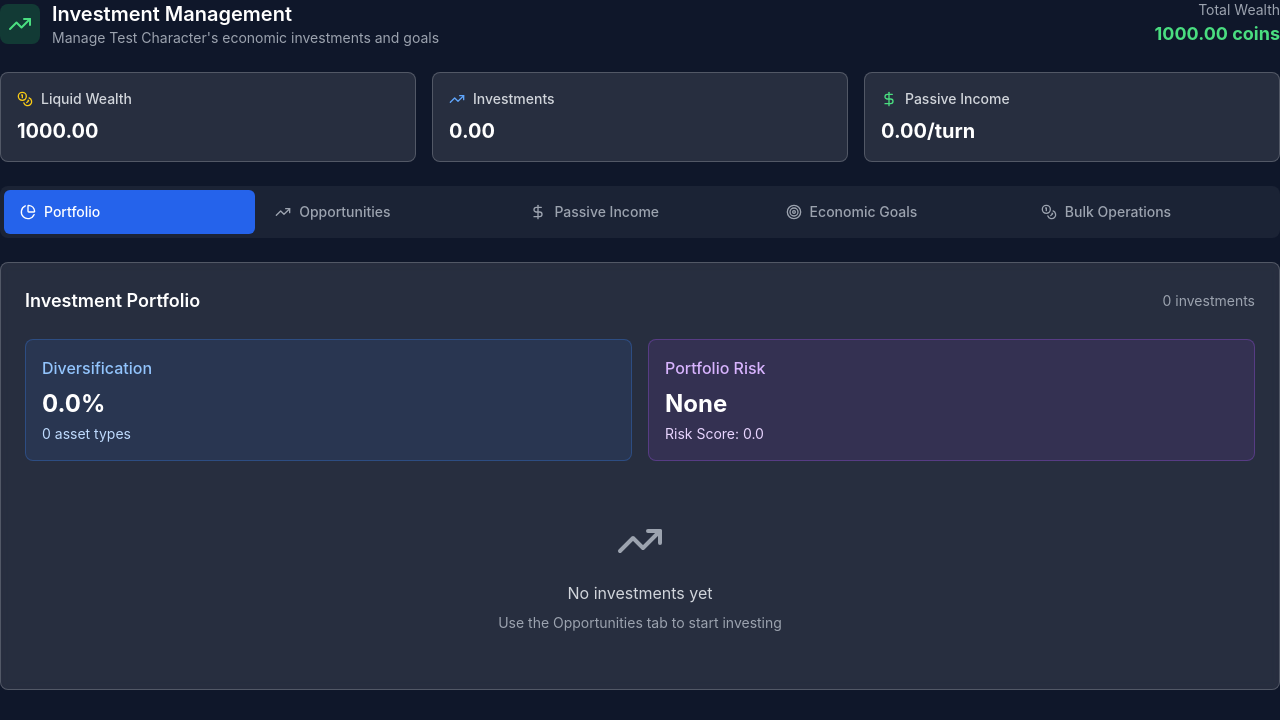
it: InvestmentEditor Integration Tests › Opportunities Tab › displays available investment opportunities
// Switch to opportunities tab
Click the button "Opportunities" at (385, 212), box [259, 190, 510, 234]
(page scrolled)
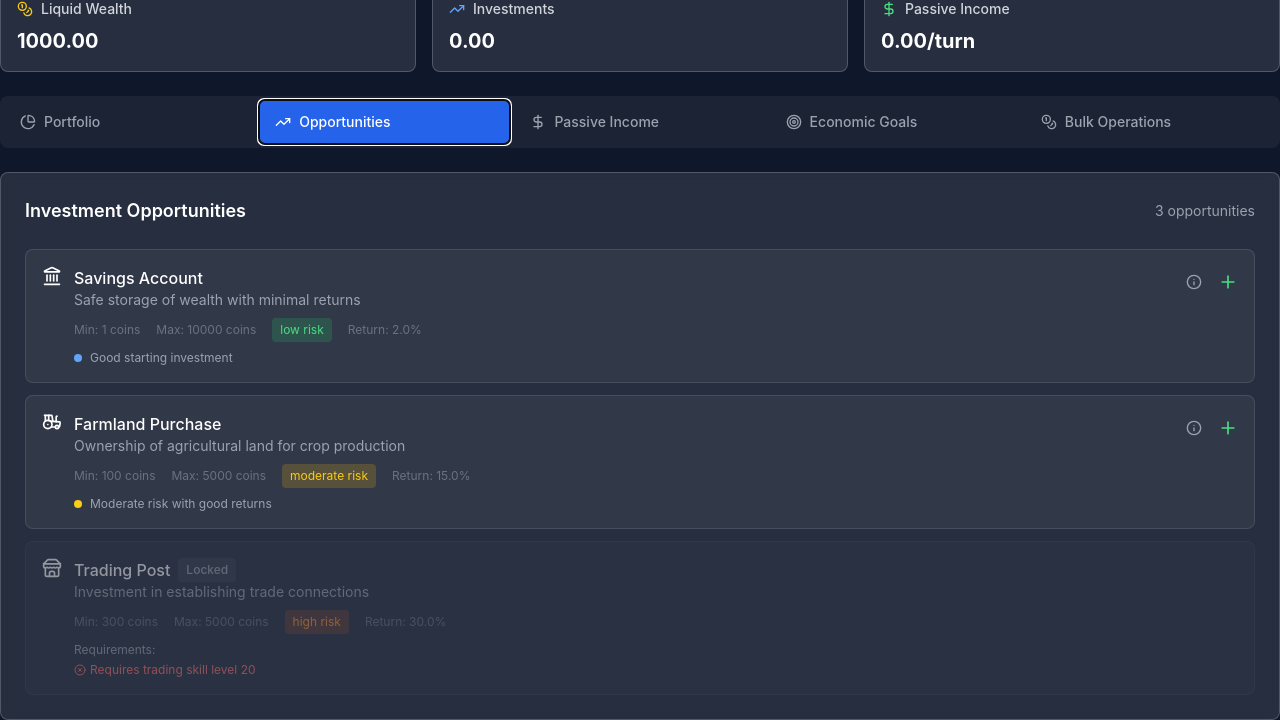
Check: the heading "Savings Account" is shown, box [74, 268, 203, 288]
Check: the heading "Farmland Purchase" is shown, box [74, 414, 221, 434]
Check: the heading "Trading Post Locked" is shown, box [74, 558, 236, 582]
